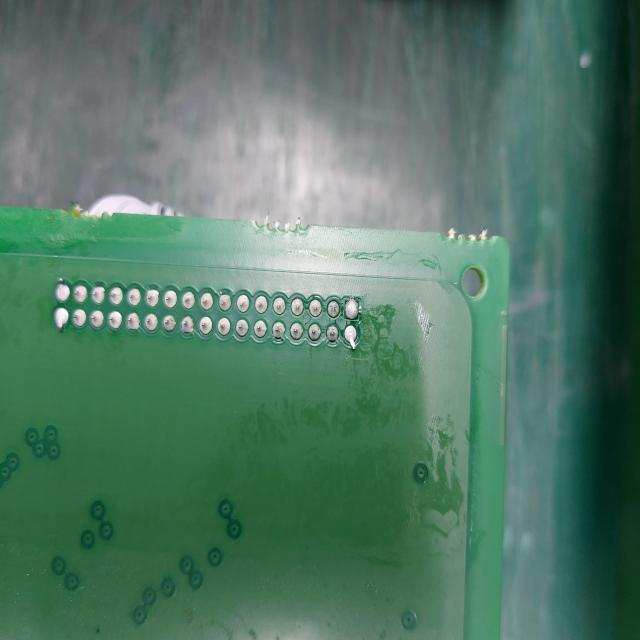redundant: (345, 296, 358, 323)
